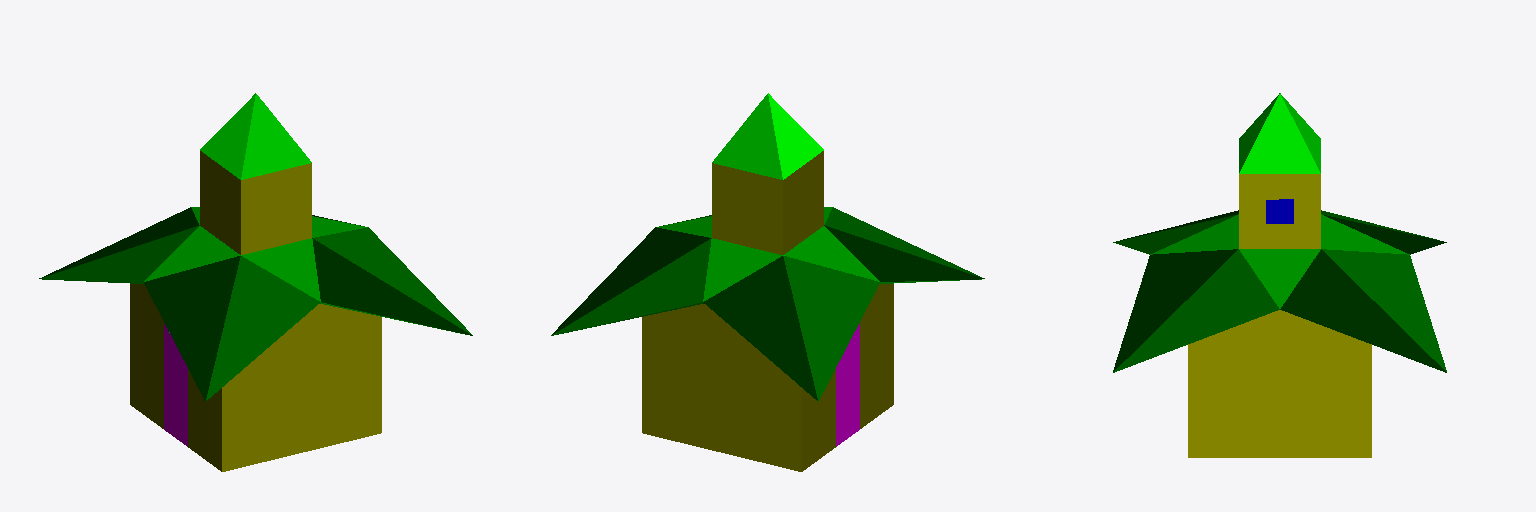
Rendered from chinese_house_full.obj.
3 views of the same model, side by side, from view 1: azimuth 30°, elevation 25°; view 2: azimuth 150°, elevation 25°; view 3: azimuth 270°, elevation 25° (orthographic).
Parts seen in each view (by area): view 1: Cube.002_Cube.002; view 2: Cube.002_Cube.002; view 3: Cube.002_Cube.002.
Part boxes in pixels (x1,y1,x2,y2): Cube.002_Cube.002: (39,93,472,471); Cube.002_Cube.002: (551,93,984,471); Cube.002_Cube.002: (1113,93,1446,457).
Bounding box in the file's own units: 74 × 85.83 × 80.